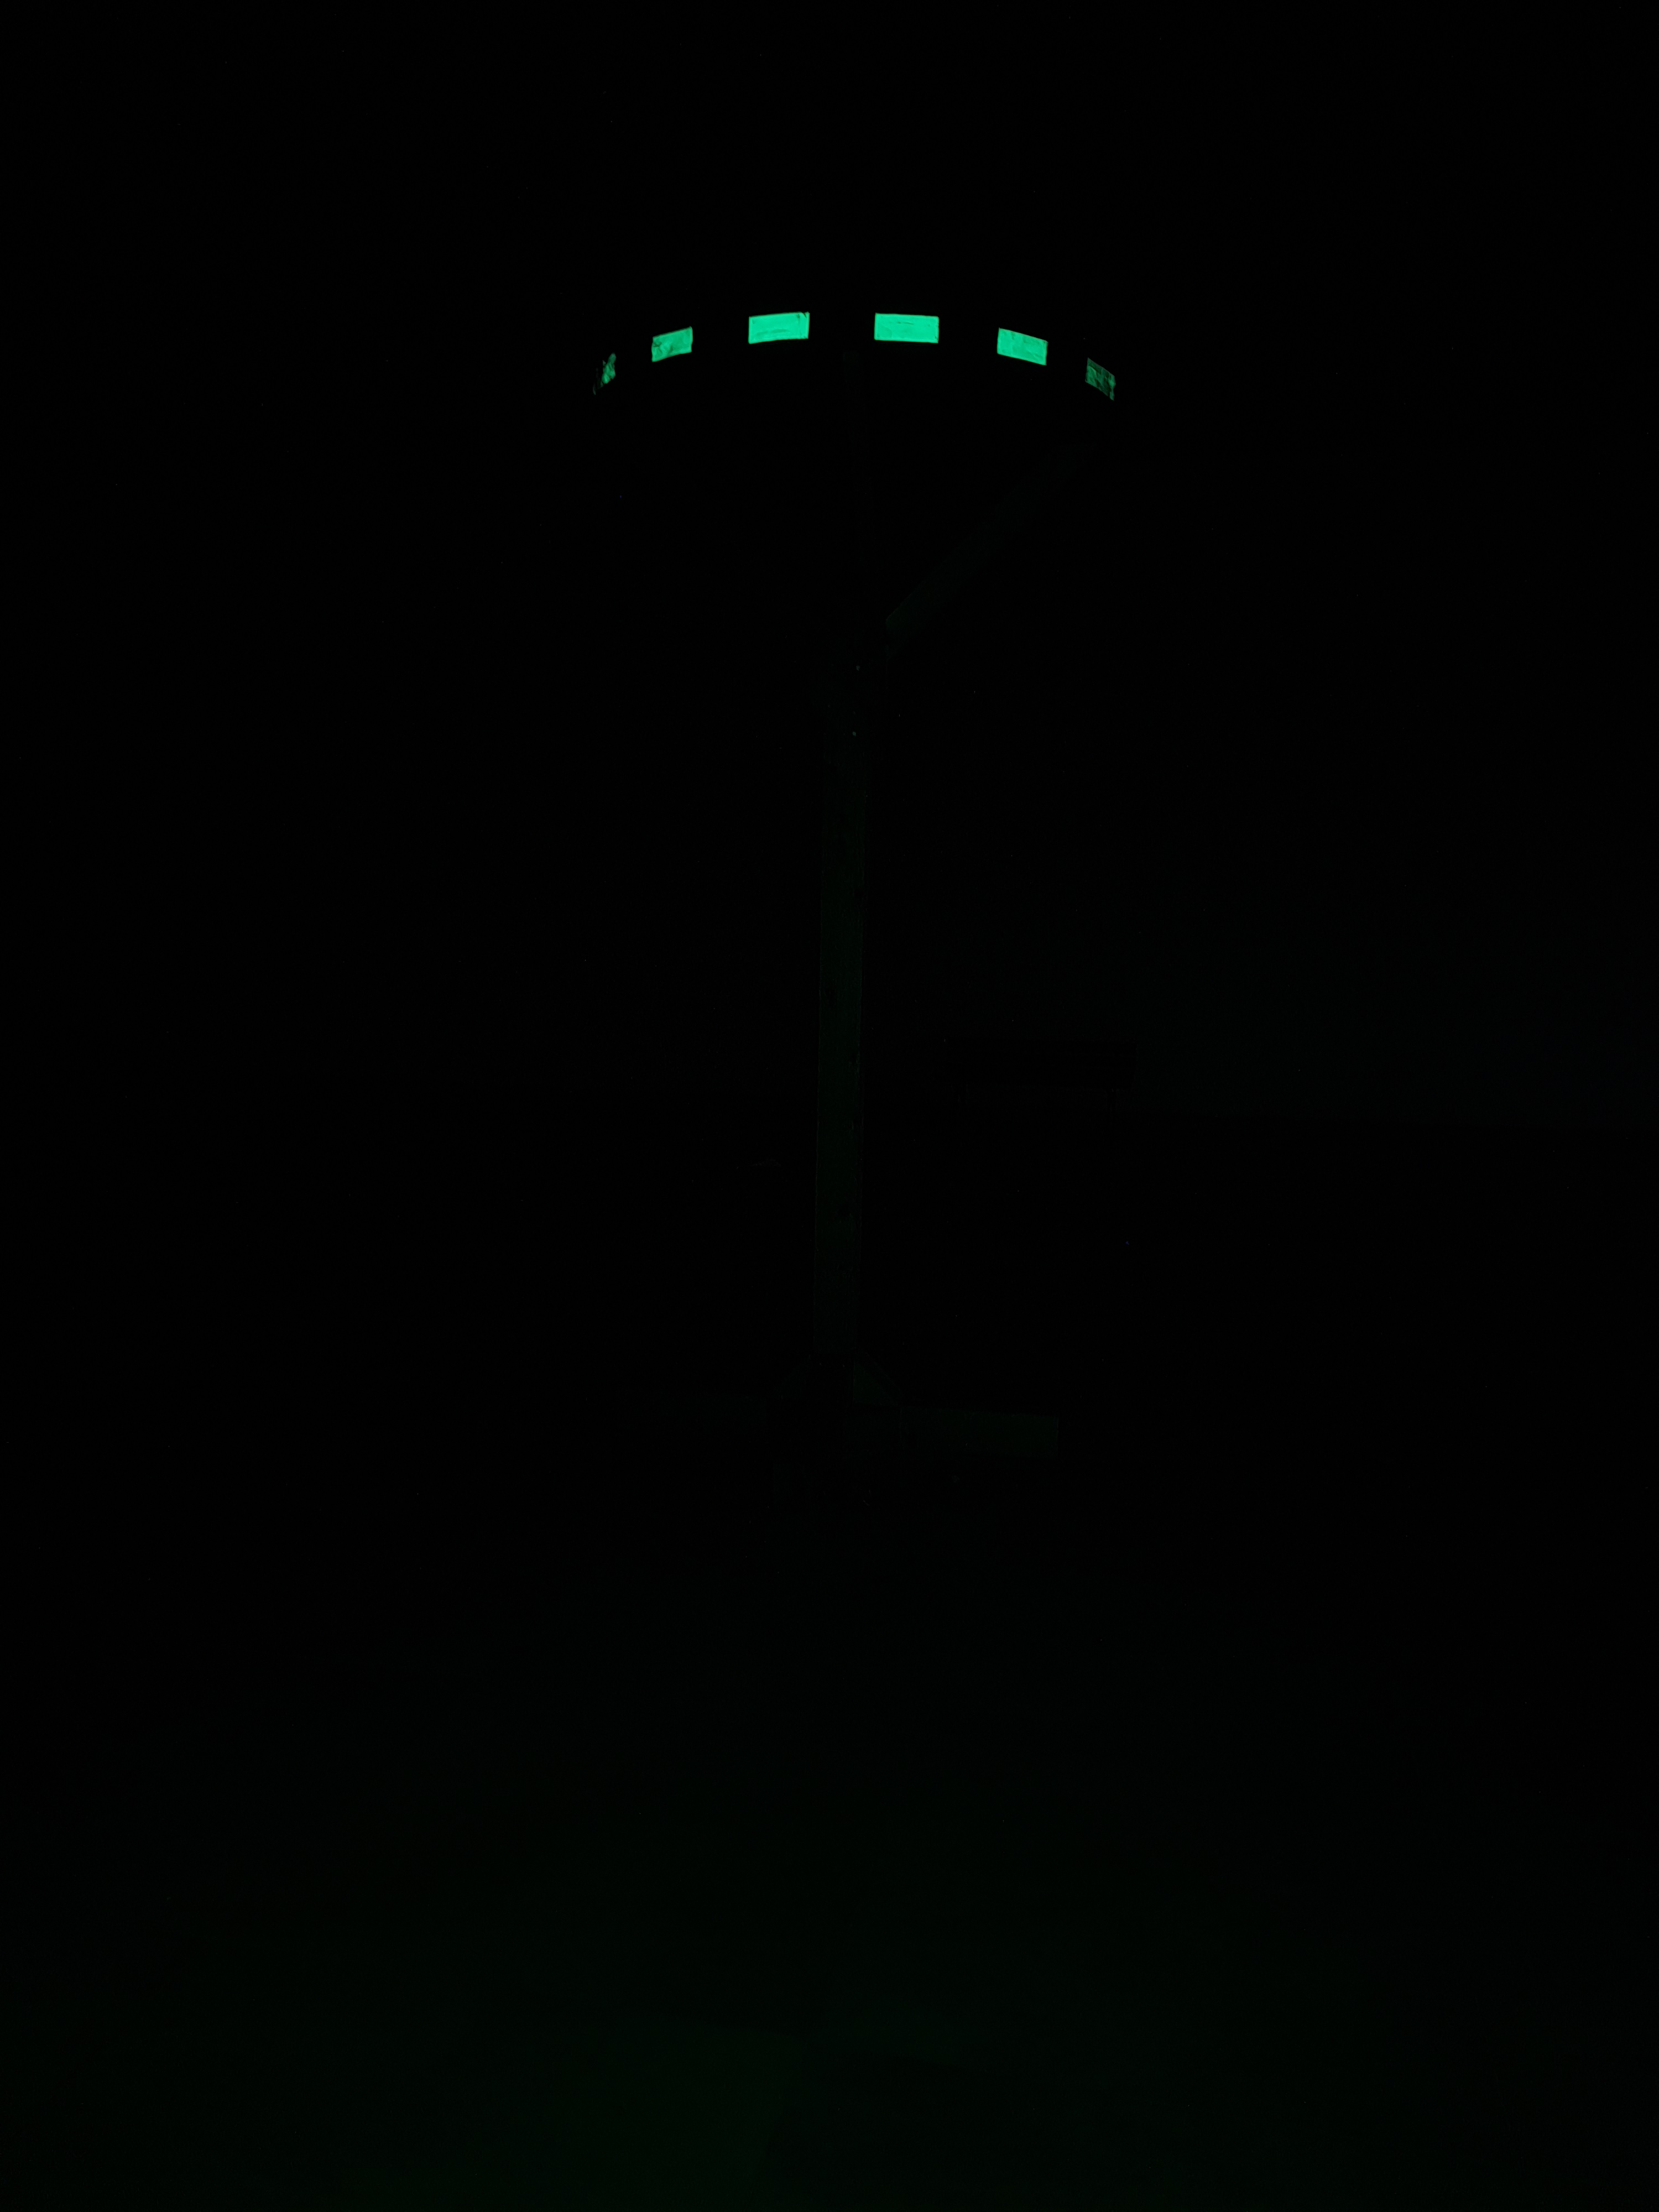hoop: (589, 308, 1126, 409)
